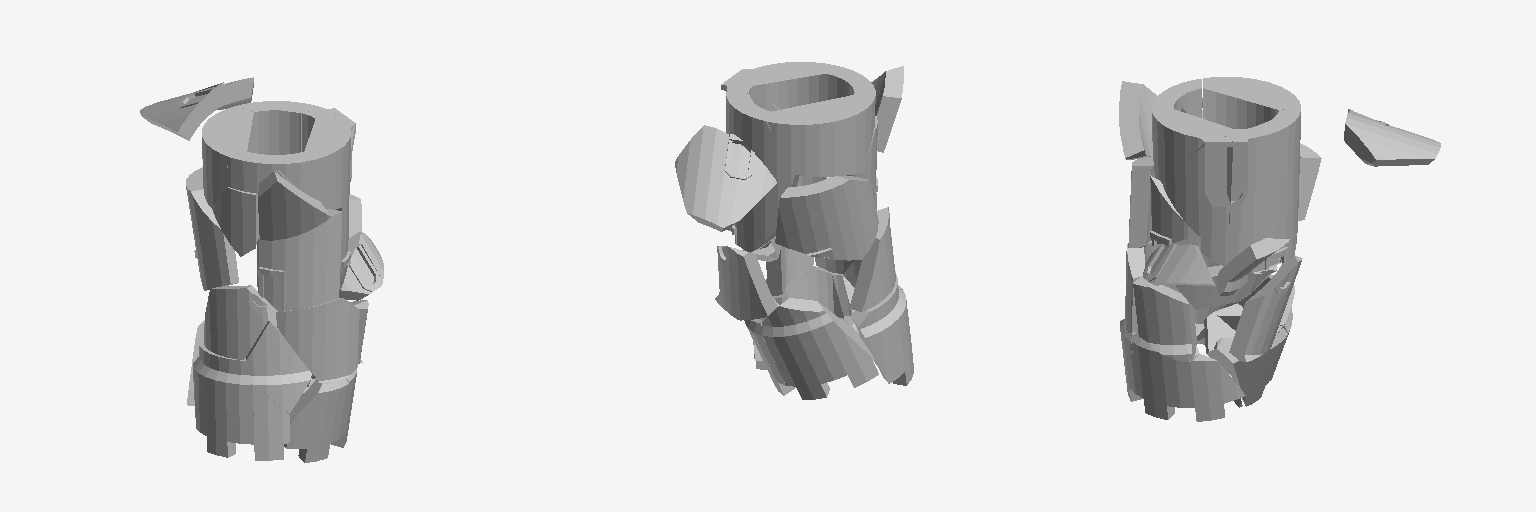
Rendered from destruction_tower_000035.obj.
3 views of the same model, side by side, from view 1: azimuth 30°, elevation 25°; view 2: azimuth 150°, elevation 25°; view 3: azimuth 270°, elevation 25° (orthographic).
Visible parts, largest first — view 1: tower.001_cell.024_Mesh.024, tower.001_cell.021_Mesh.021, tower.001_cell.006_Mesh.006, tower.001_cell.028_Mesh.028, tower.001_cell.009_Mesh.009, tower.001_cell.011_Mesh.011, tower.001_cell.013_Mesh.013, tower.001_cell.002_Mesh.002, tower.001_cell.003_Mesh.003, tower.001_cell.025_Mesh.025, tower.001_cell.015_Mesh.015, tower.001_cell.017_Mesh.017 (+6 smaller); view 2: tower.001_cell.007_Mesh.007, tower.001_cell.003_Mesh.003, tower.001_cell.025_Mesh.025, tower.001_cell.015_Mesh.015, tower.001_cell.017_Mesh.017, tower.001_cell.028_Mesh.028, tower.001_cell.005_Mesh.005, tower.001_cell.012_Mesh.012, tower.001_cell.009_Mesh.009, tower.001_cell.002_Mesh.002, tower.001_cell_Mesh, tower.001_cell.023_Mesh.023 (+3 smaller); view 3: tower.001_cell.017_Mesh.017, tower.001_cell.020_Mesh.020, tower.001_cell_Mesh, tower.001_cell.015_Mesh.015, tower.001_cell.028_Mesh.028, tower.001_cell.025_Mesh.025, tower.001_cell.012_Mesh.012, tower.001_cell.030_Mesh.030, tower.001_cell.026_Mesh.026, tower.001_cell.002_Mesh.002, tower.001_cell.023_Mesh.023, tower.001_cell.010_Mesh.010 (+12 smaller).
Part boxes in pixels (left/top/right/bottom): tower.001_cell.024_Mesh.024: left=257, top=209, right=341, bottom=311; tower.001_cell.021_Mesh.021: left=276, top=298, right=359, bottom=382; tower.001_cell.006_Mesh.006: left=205, top=382, right=289, bottom=460; tower.001_cell.028_Mesh.028: left=273, top=119, right=355, bottom=209; tower.001_cell.009_Mesh.009: left=204, top=285, right=267, bottom=359; tower.001_cell.011_Mesh.011: left=284, top=379, right=348, bottom=462; tower.001_cell.013_Mesh.013: left=246, top=321, right=311, bottom=413; tower.001_cell.002_Mesh.002: left=258, top=171, right=330, bottom=240; tower.001_cell.003_Mesh.003: left=186, top=167, right=238, bottom=290; tower.001_cell.025_Mesh.025: left=140, top=77, right=253, bottom=140; tower.001_cell.015_Mesh.015: left=202, top=106, right=253, bottom=207; tower.001_cell.017_Mesh.017: left=238, top=101, right=321, bottom=241; tower.001_cell.007_Mesh.007: left=761, top=298, right=878, bottom=399; tower.001_cell.003_Mesh.003: left=775, top=176, right=878, bottom=260; tower.001_cell.025_Mesh.025: left=675, top=125, right=776, bottom=231; tower.001_cell.015_Mesh.015: left=767, top=95, right=873, bottom=176; tower.001_cell.017_Mesh.017: left=726, top=89, right=799, bottom=252; tower.001_cell.028_Mesh.028: left=742, top=62, right=863, bottom=109; tower.001_cell.005_Mesh.005: left=851, top=275, right=908, bottom=383; tower.001_cell.012_Mesh.012: left=715, top=246, right=776, bottom=320; tower.001_cell.009_Mesh.009: left=849, top=207, right=895, bottom=311; tower.001_cell.002_Mesh.002: left=871, top=66, right=903, bottom=152; tower.001_cell_Mesh: left=766, top=246, right=813, bottom=295; tower.001_cell.023_Mesh.023: left=772, top=266, right=833, bottom=313; tower.001_cell.017_Mesh.017: left=1254, top=107, right=1300, bottom=263; tower.001_cell.020_Mesh.020: left=1162, top=136, right=1232, bottom=238; tower.001_cell_Mesh: left=1133, top=276, right=1196, bottom=361; tower.001_cell.015_Mesh.015: left=1203, top=77, right=1300, bottom=128; tower.001_cell.028_Mesh.028: left=1152, top=93, right=1233, bottom=182; tower.001_cell.025_Mesh.025: left=1344, top=109, right=1440, bottom=166; tower.001_cell.012_Mesh.012: left=1229, top=255, right=1302, bottom=361; tower.001_cell.030_Mesh.030: left=1155, top=353, right=1245, bottom=421; tower.001_cell.026_Mesh.026: left=1227, top=127, right=1253, bottom=239; tower.001_cell.002_Mesh.002: left=1119, top=81, right=1156, bottom=159; tower.001_cell.023_Mesh.023: left=1131, top=332, right=1198, bottom=416; tower.001_cell.010_Mesh.010: left=1143, top=244, right=1215, bottom=285.
Bounding box in the file's own units: 61.81 × 92.97 × 92.14.